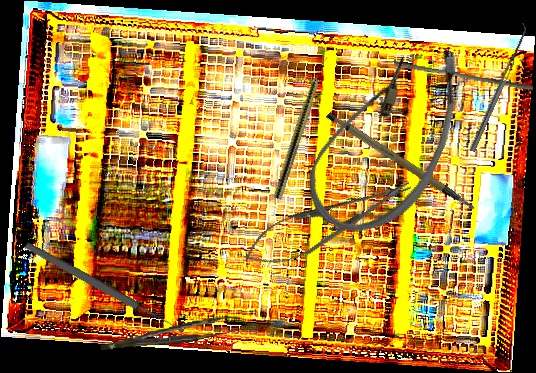Cannula: (294, 19, 482, 253)
Handpiece: (272, 54, 330, 201)
Needle Holder: (236, 166, 419, 279)
Pusher: (392, 60, 535, 91)
Scalpel Handle: (324, 93, 476, 232)
Spatula Surgical: (464, 21, 531, 153)
Surgical Spoon: (23, 240, 186, 337)
Tissue Forceps: (98, 315, 241, 351)
